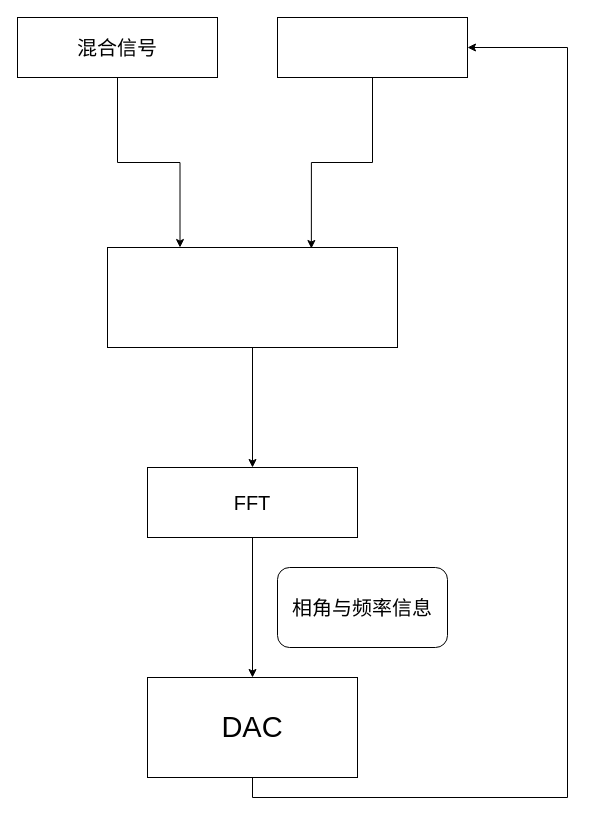
The diagram is 593 pixels wide and 823 high, and some of its shapes have lost their labels. Each missing label, with the centre of its shape:
分离信号: [372,47]
采样模块 1024个点推送数据: [252,297]
